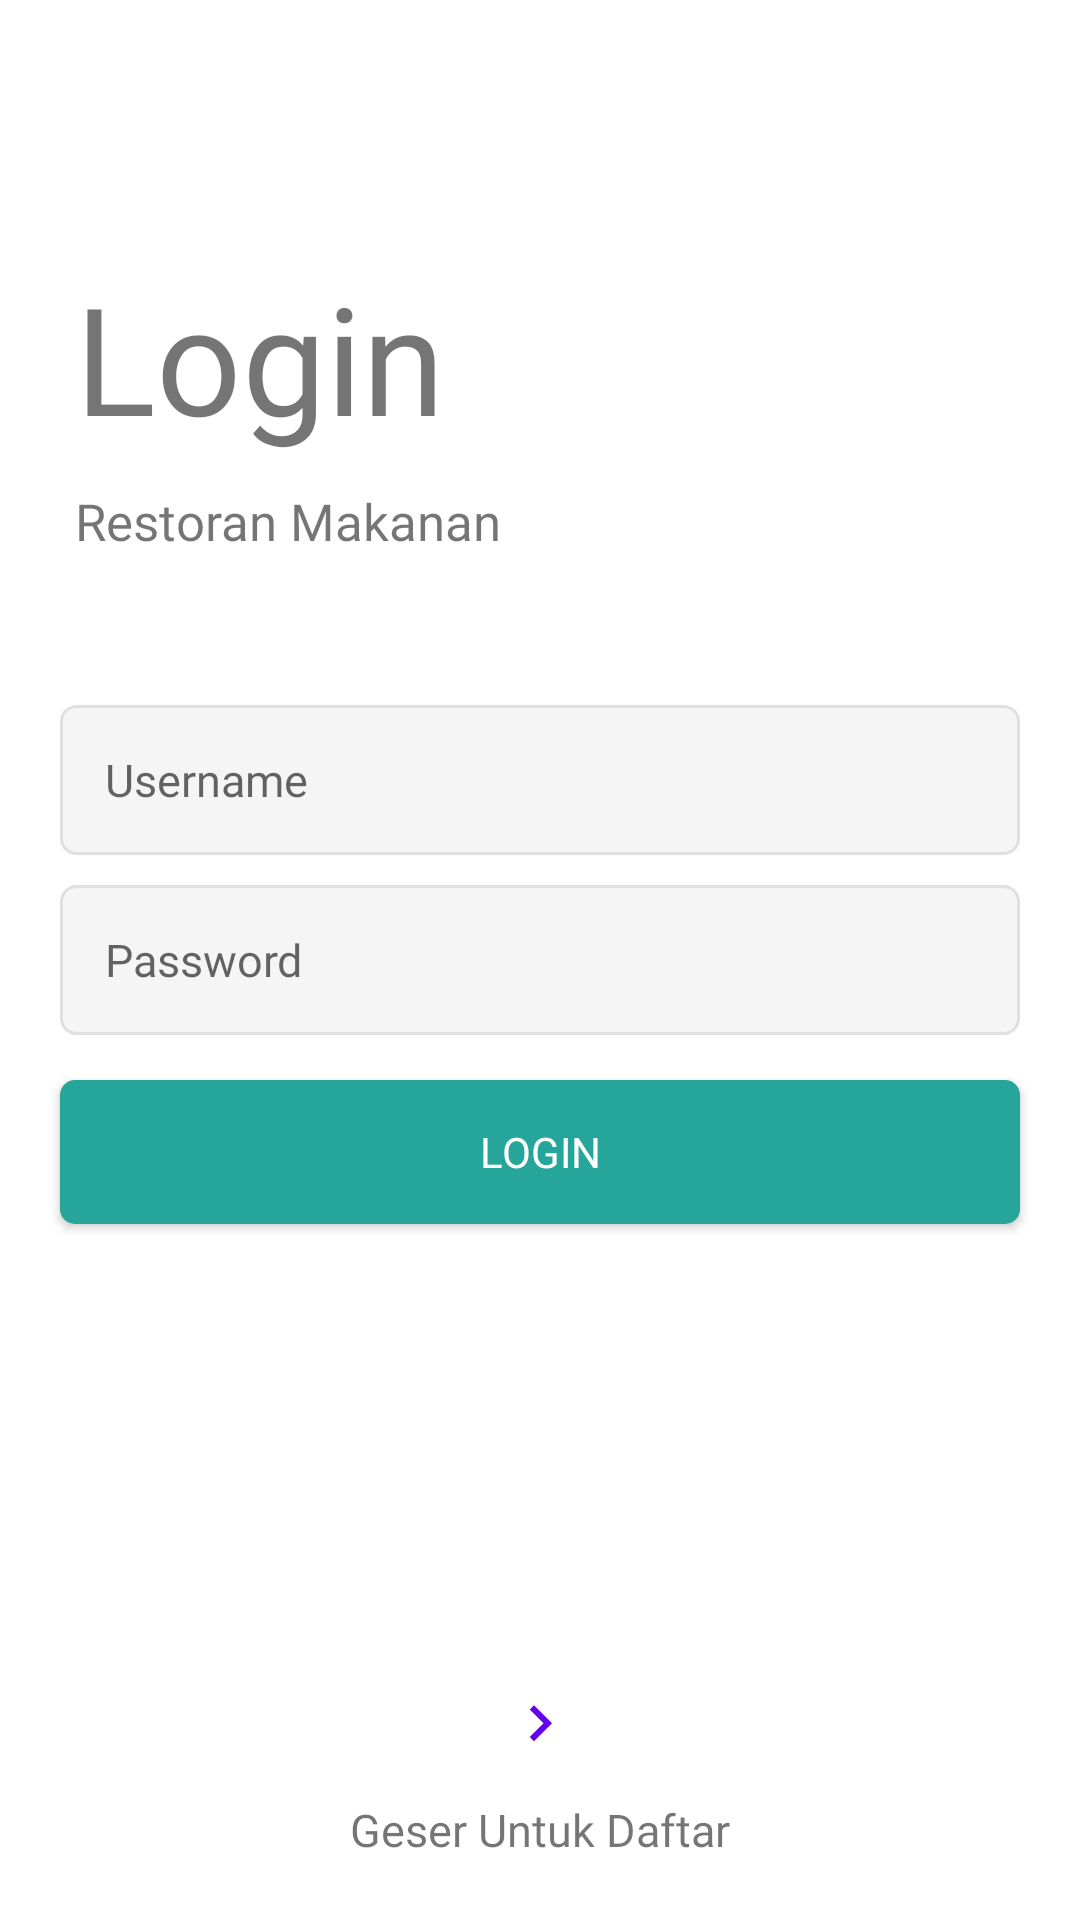

Screen size 1080x1920. Icon name, then its box in pixels as [x1, y1, x2, y2]:
arrow right: [530, 1705, 552, 1741]
